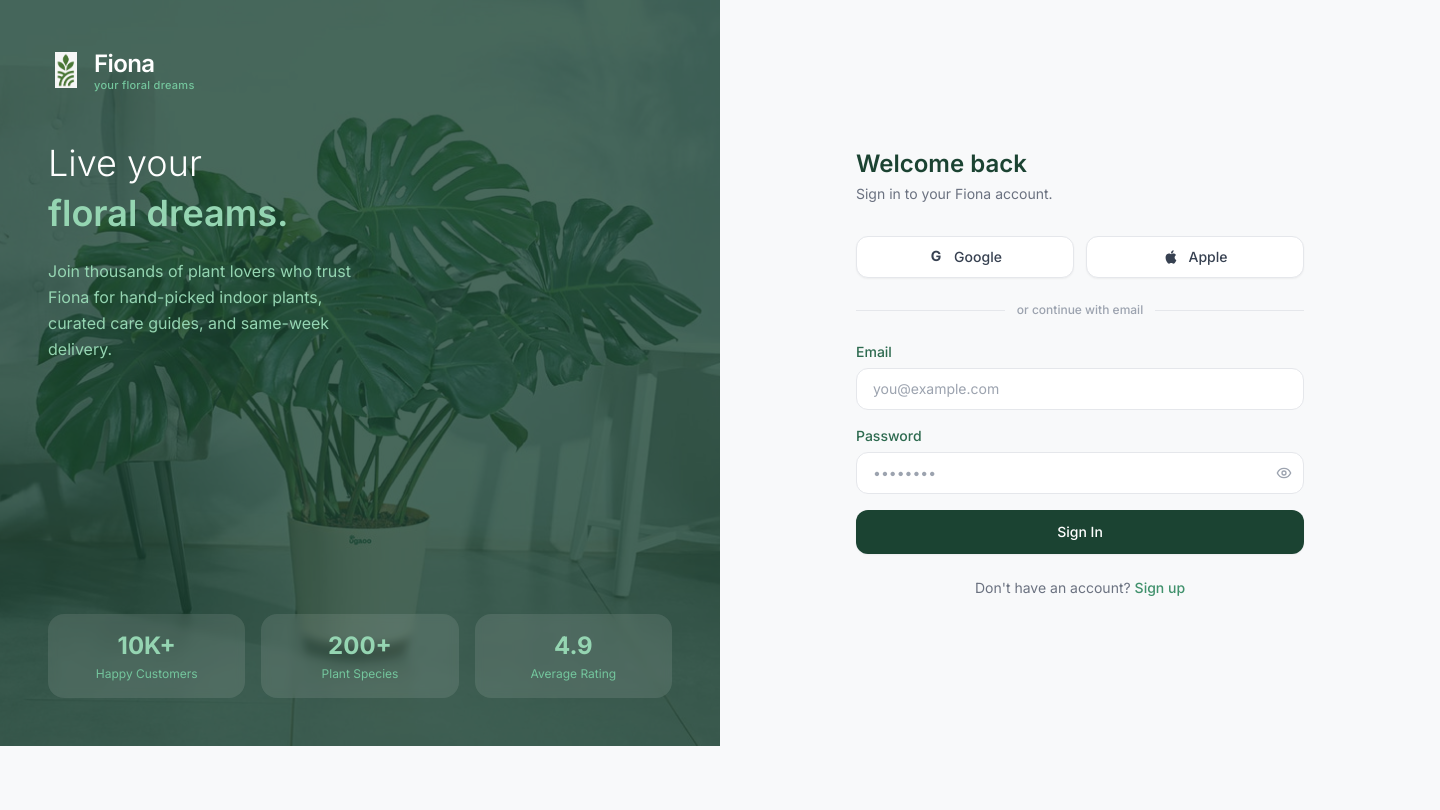
Test case: Authentication & Security Boundary Exceptions - AuthPage.tsx › EX-AUTH-02: Login / Register with offline network during submission › catches network offline failure during Register, displays user-friendly message, and preserves inputs
# Switch to Register mode
Click the button "Sign up".
click(1160, 588)  # box [1135, 578, 1185, 598]
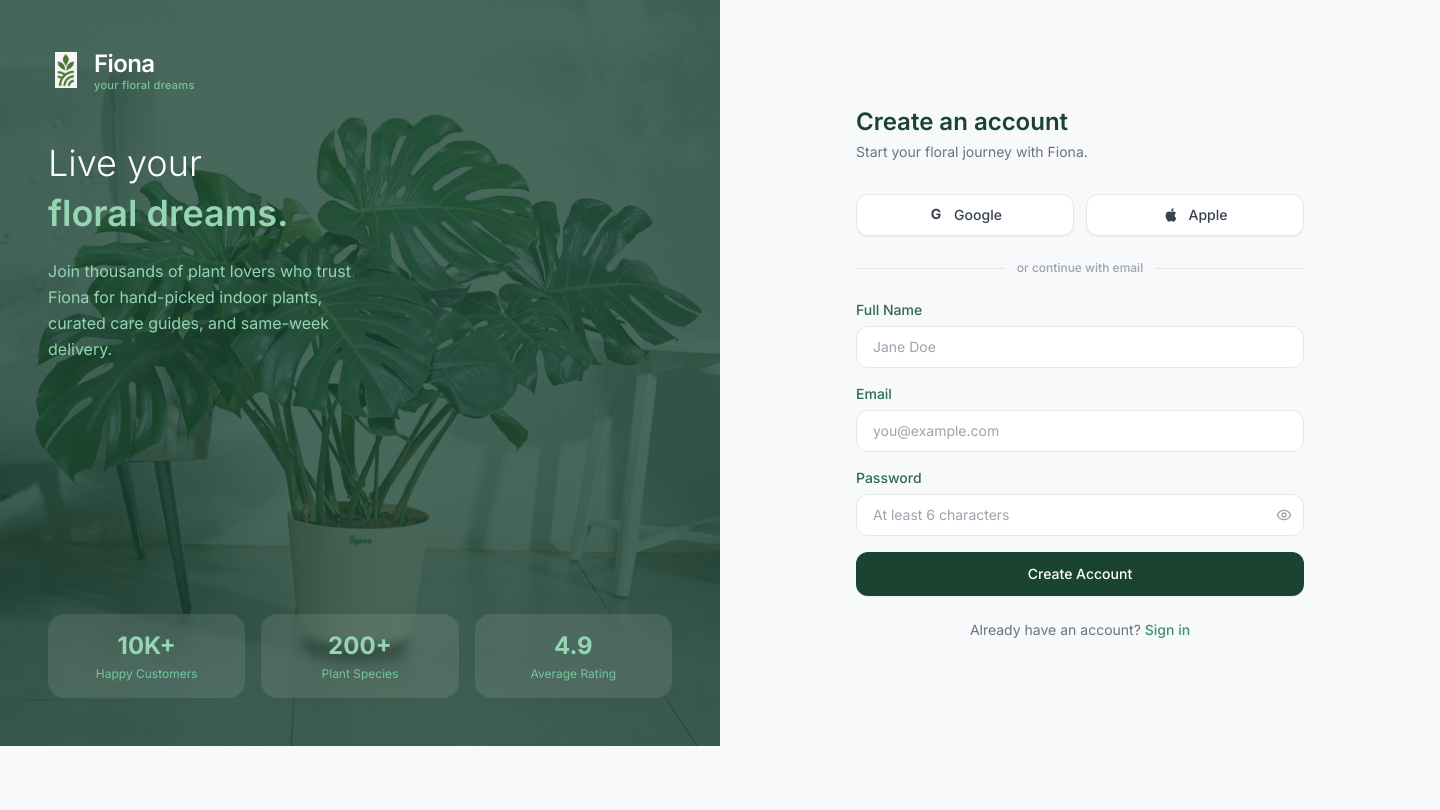
Check: the heading "Create an account" is shown, box [856, 107, 1068, 136]
# Populate registration form
Type "Jane Watson" into the field with placeholder "Jane Doe".
click(1080, 347); type("Jane Watson")  # box [856, 326, 1304, 368]
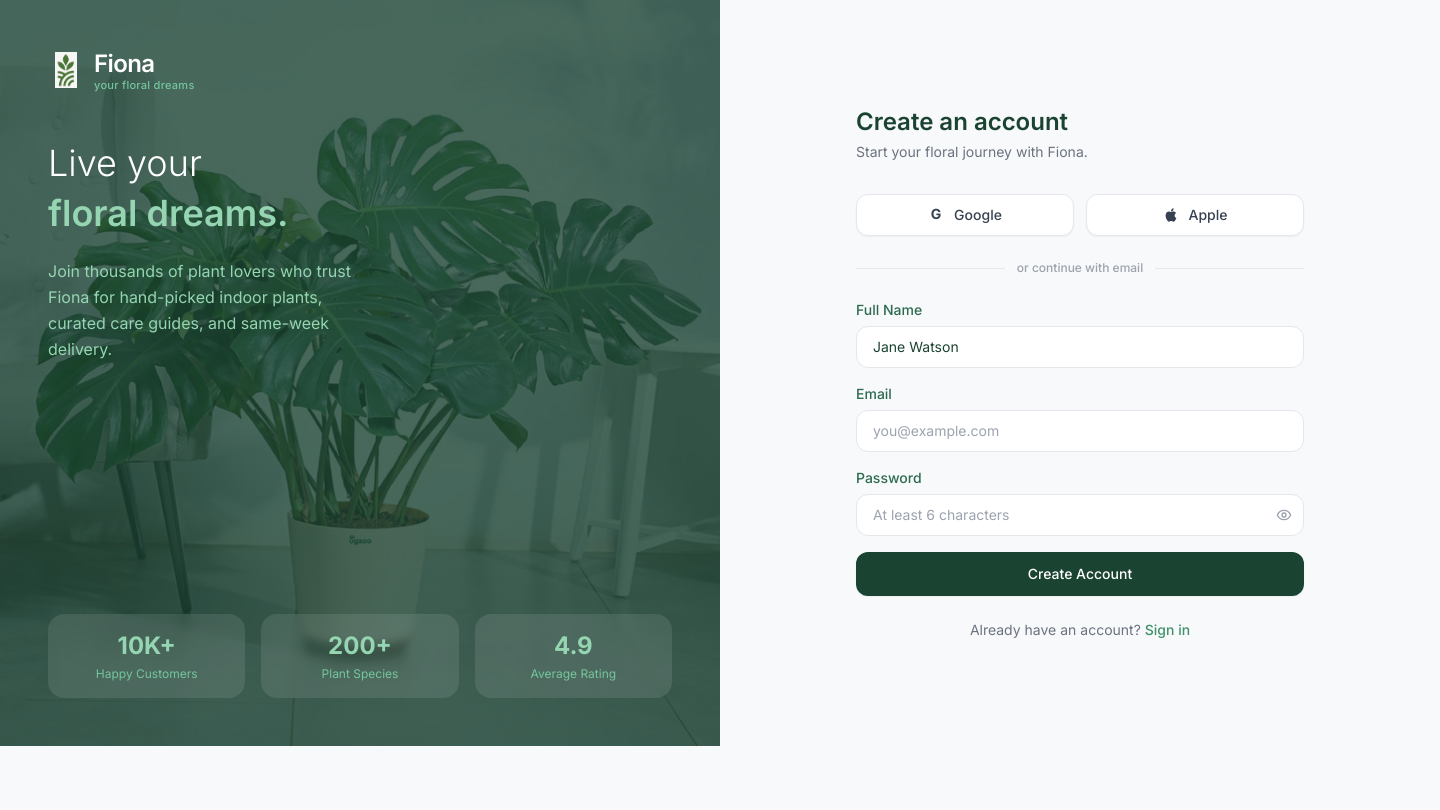
Type "jane.watson@example.com" into the field with placeholder "you@example.com".
click(1080, 431); type("jane.watson@example.com")  # box [856, 410, 1304, 452]
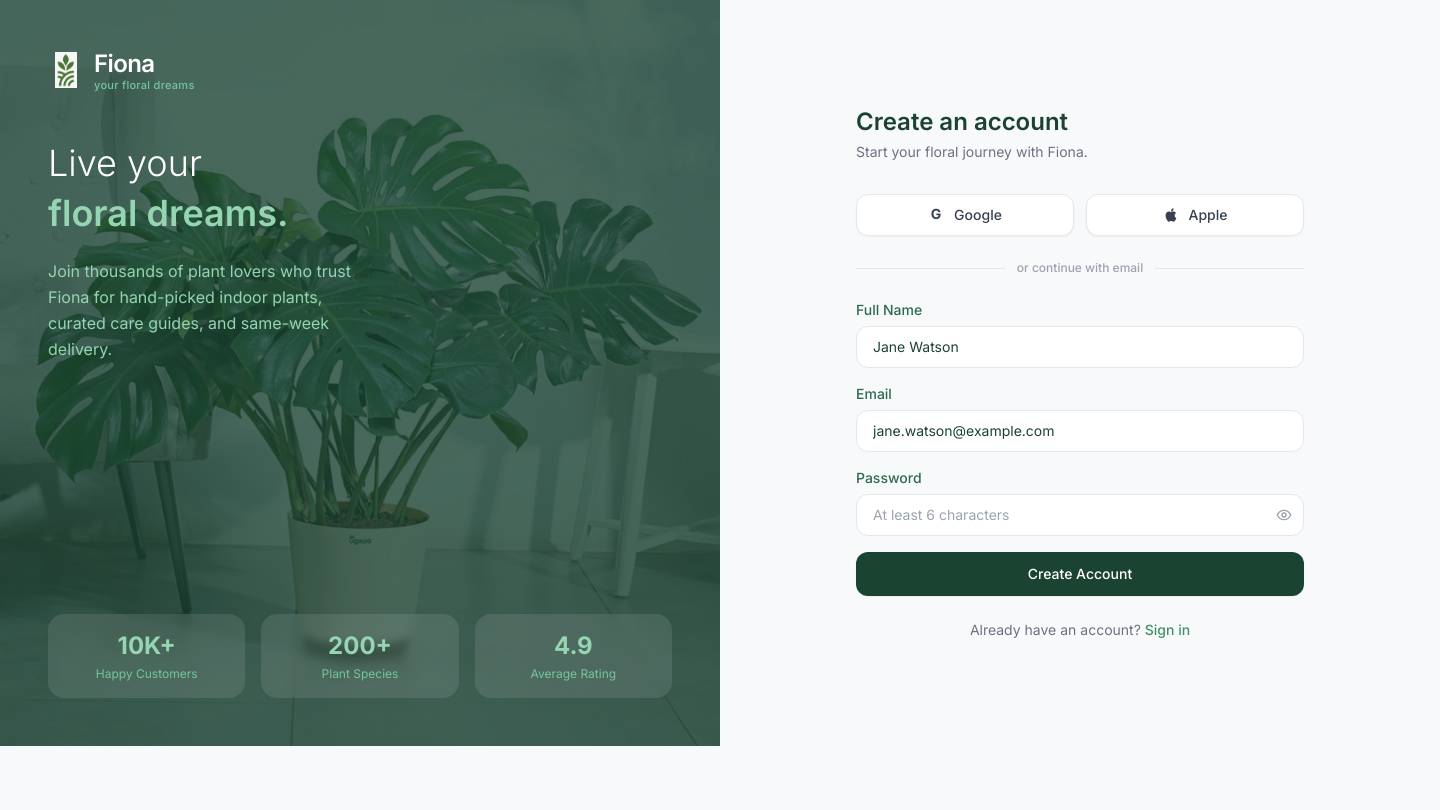
Type "password123" into the password field with placeholder "At least 6 characters".
click(1080, 515); type("password123")  # box [856, 494, 1304, 536]
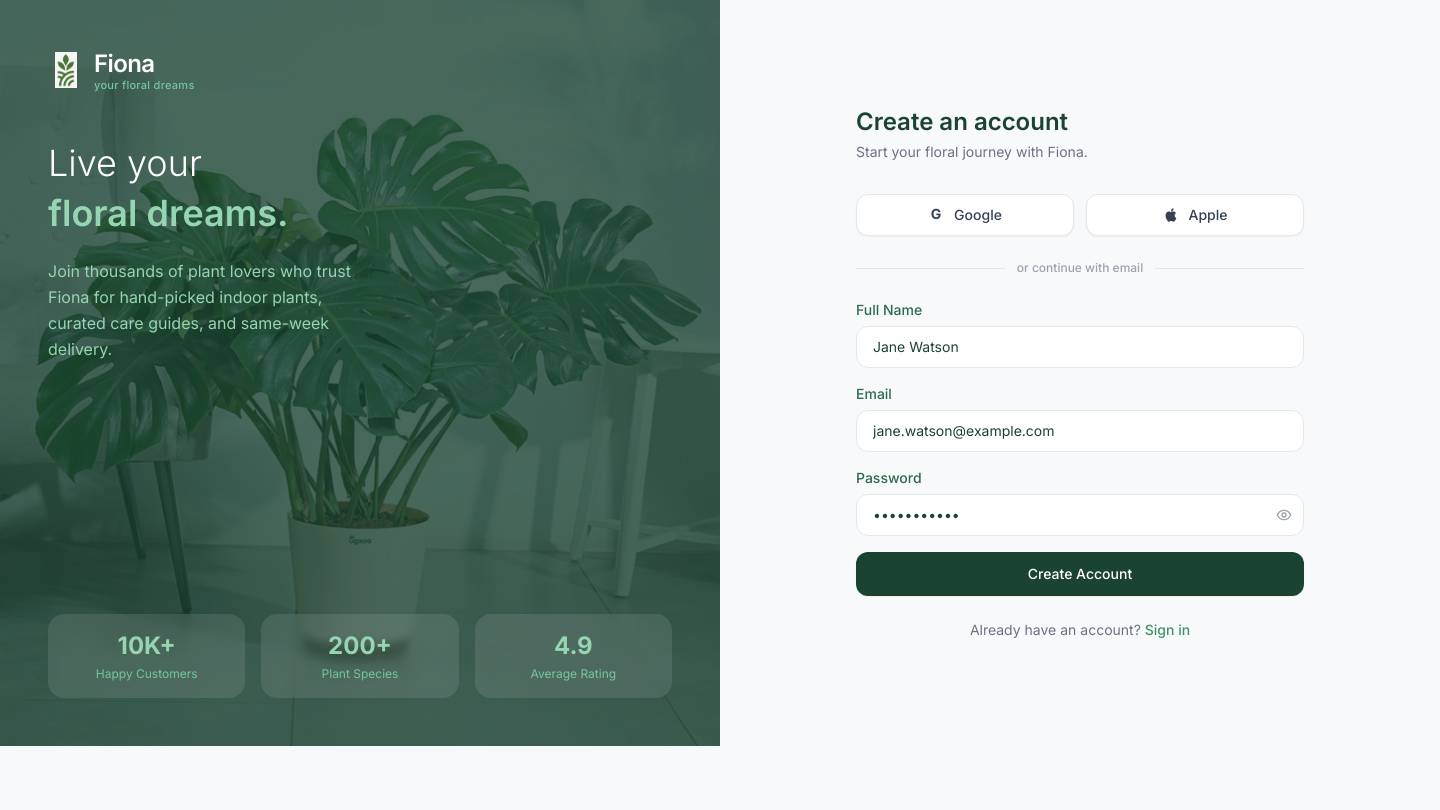
Click the button "Create Account".
click(1080, 574)  # box [856, 552, 1304, 596]
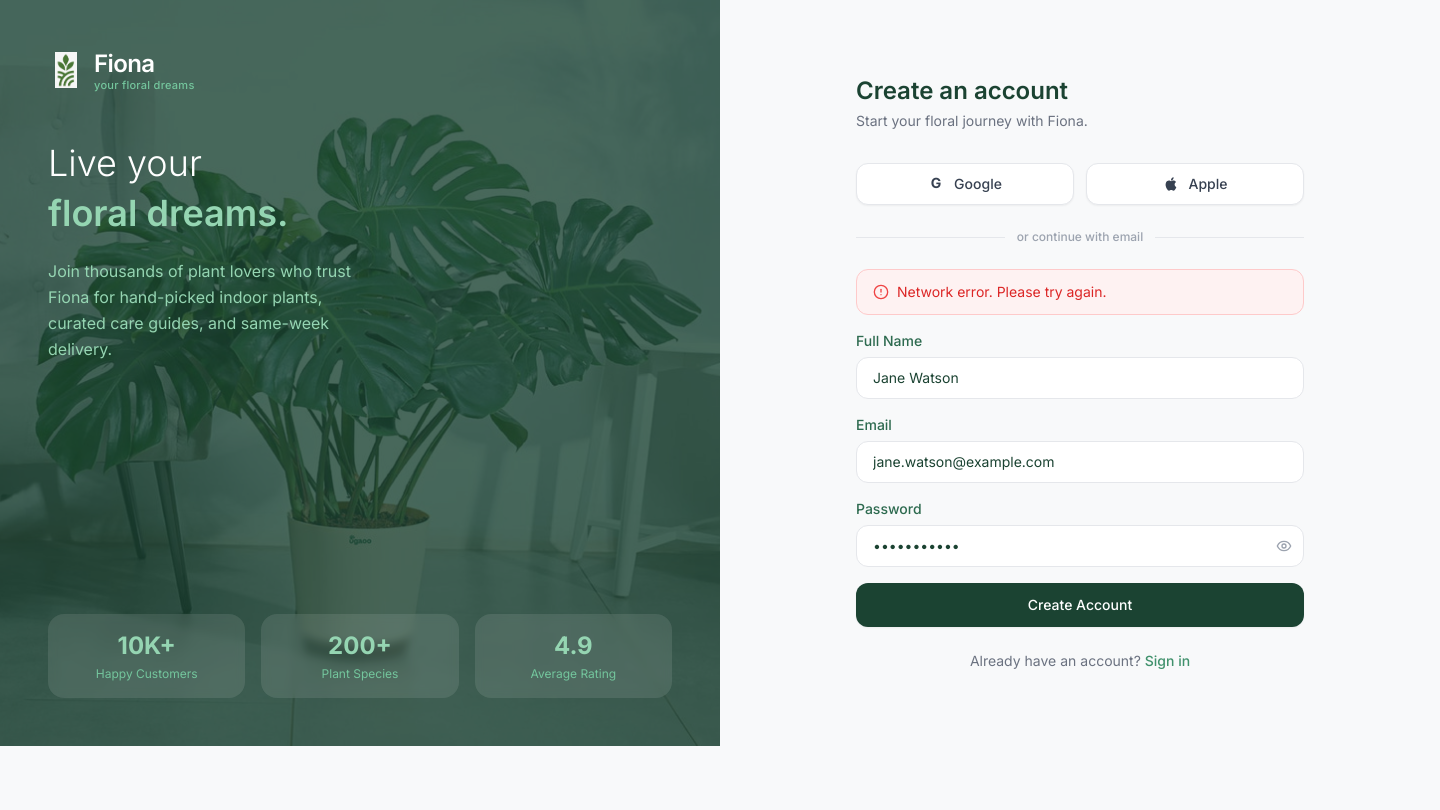
Check: the button "Create Account" is enabled, box [856, 583, 1304, 627]
Check: the message "Network error. Please try again." is shown, box [856, 269, 1304, 315]
Check: the text "Network error. Please try again." is shown, box [897, 282, 1106, 302]
